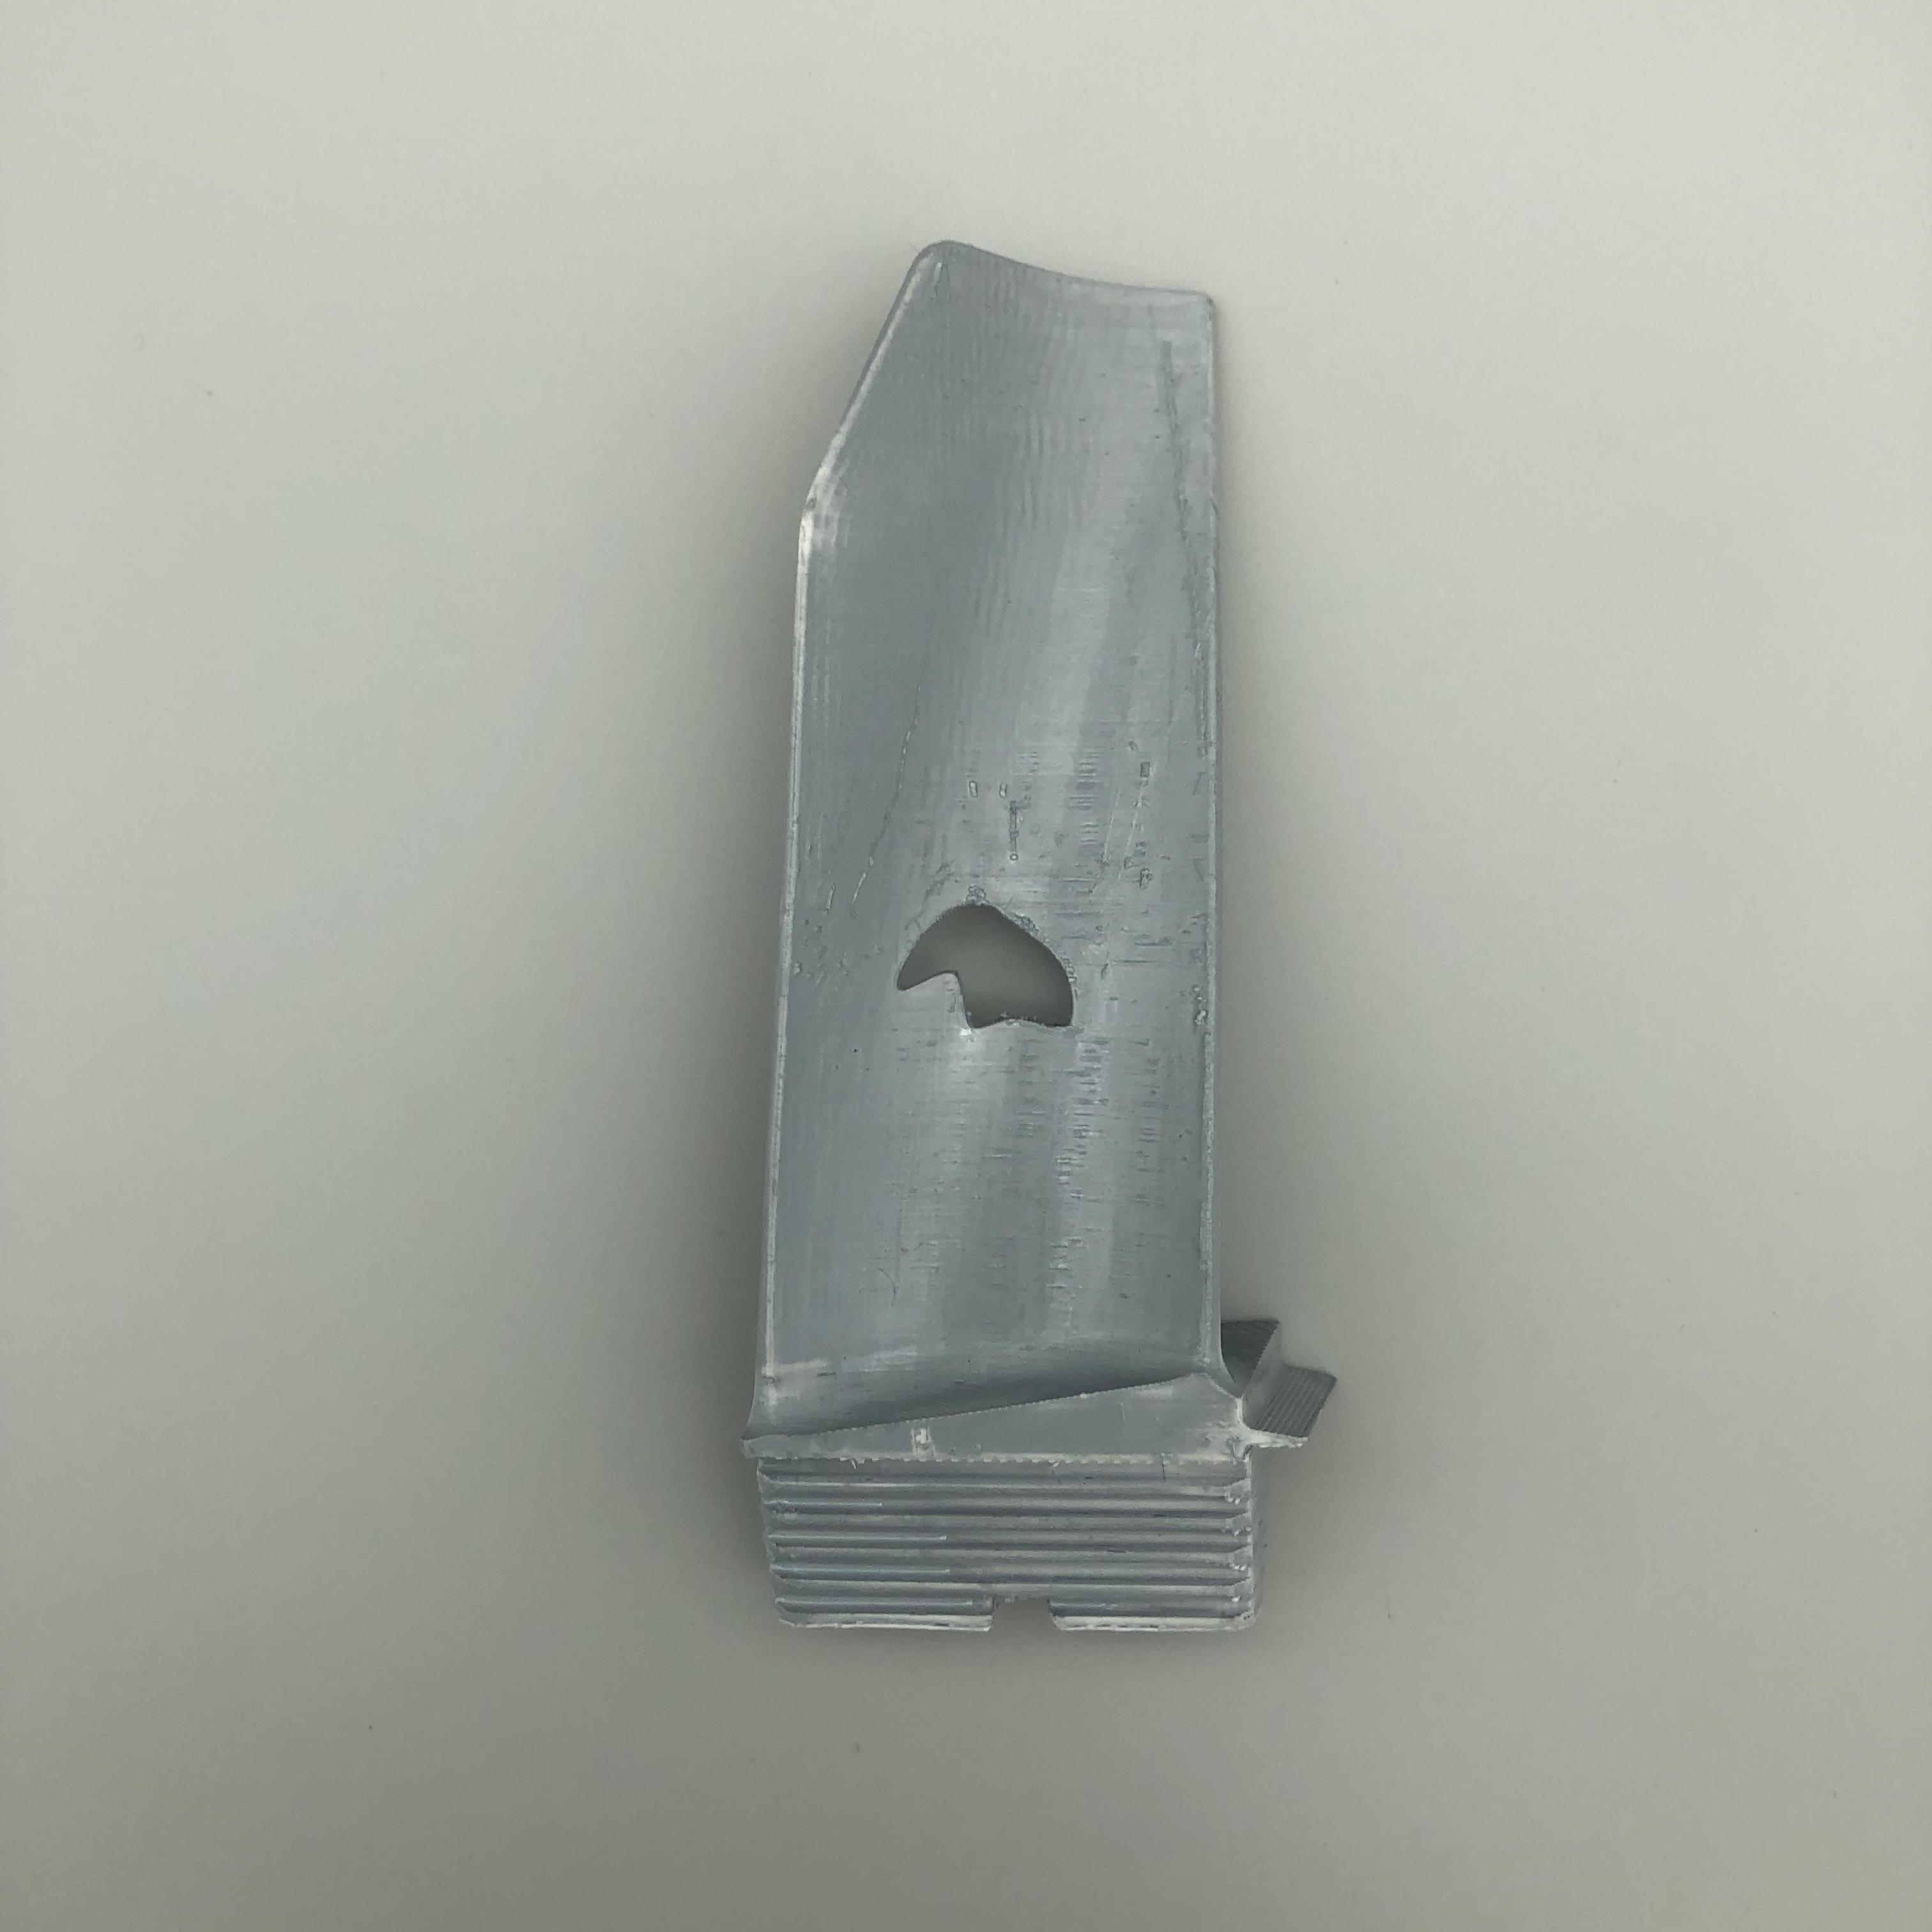breakdown: (890, 890, 1116, 1040)
